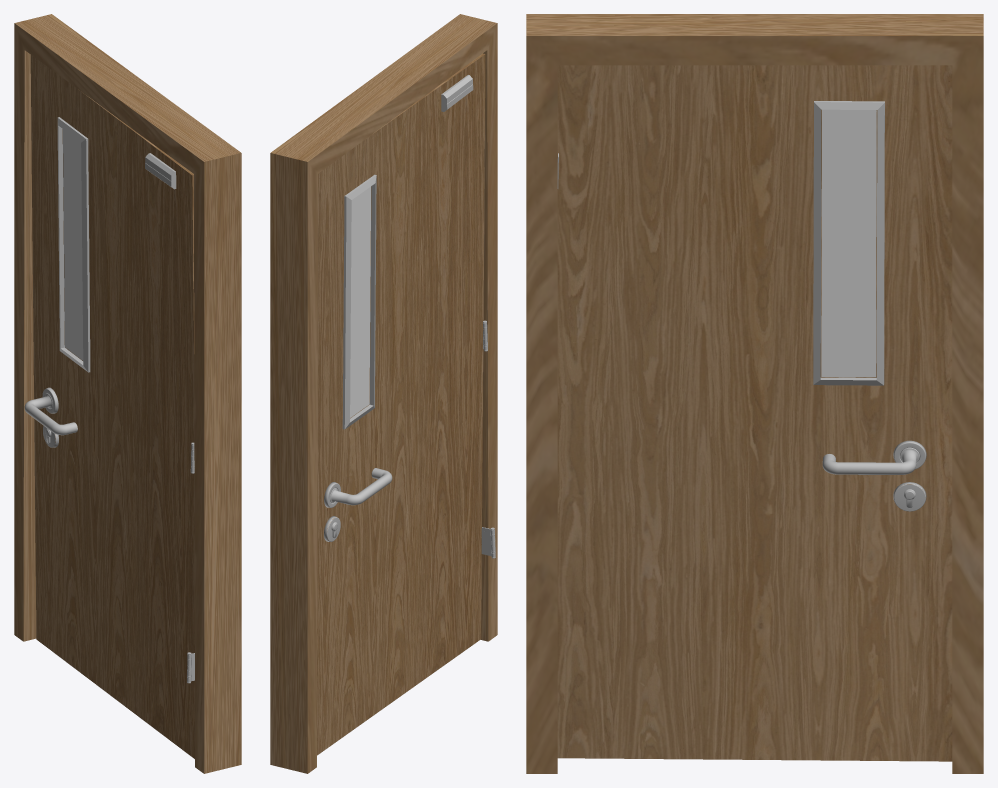
The model's file is school.fbx_classroom_door.fbx.
3 renders of one model, left to right at view 1: azimuth 30°, elevation 25°; view 2: azimuth 150°, elevation 25°; view 3: azimuth 270°, elevation 25°, orthographic. The views are drawn at different scales.
Visible parts, largest first — view 1: Plane, Cube.001, Plane.042, Plane.040, Cube.003; view 2: Plane, Cube.001, Plane.042, Plane.040, Cube.003; view 3: Plane, Cube.001, Plane.042, Plane.040, Plane.041.
Boxes of the visible parts, <box> form: Plane: <box>30,55,194,758</box>; Cube.001: <box>14,14,241,773</box>; Plane.042: <box>57,117,90,372</box>; Plane.040: <box>24,387,77,435</box>; Cube.003: <box>145,153,176,189</box>; Plane: <box>317,53,485,755</box>; Cube.001: <box>270,14,497,773</box>; Plane.042: <box>342,174,376,429</box>; Plane.040: <box>324,468,392,507</box>; Cube.003: <box>441,75,473,111</box>; Plane: <box>557,65,952,761</box>; Cube.001: <box>526,14,983,773</box>; Plane.042: <box>813,101,884,385</box>; Plane.040: <box>822,440,926,474</box>; Plane.041: <box>893,482,926,511</box>.
Size of the model in its own units: 38.58 by 323 by 182.
